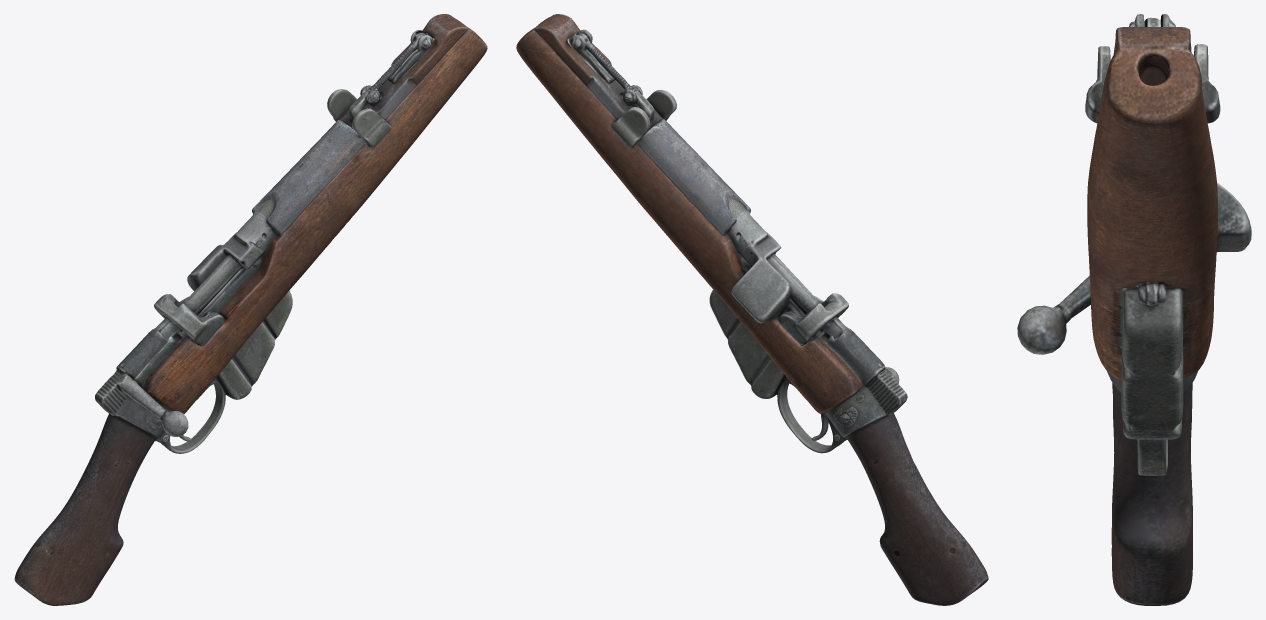
The model's file is smle_tripo_model3_bolt.glb.
3 renders of one model, left to right at view 1: azimuth 30°, elevation 25°; view 2: azimuth 150°, elevation 25°; view 3: azimuth 270°, elevation 25°, orthographic. The views are drawn at different scales.
Visible parts, largest first — view 1: tripo_node_3b372038-565b-4fe2-86f5-da2a679670e3; view 2: tripo_node_3b372038-565b-4fe2-86f5-da2a679670e3; view 3: tripo_node_3b372038-565b-4fe2-86f5-da2a679670e3.
Part boxes in pixels (x1=…): tripo_node_3b372038-565b-4fe2-86f5-da2a679670e3: x1=14, y1=14, x2=487, y2=605; tripo_node_3b372038-565b-4fe2-86f5-da2a679670e3: x1=516, y1=14, x2=988, y2=605; tripo_node_3b372038-565b-4fe2-86f5-da2a679670e3: x1=1017, y1=14, x2=1251, y2=605.
Size of the model in its own units: 0.9797 by 0.9741 by 0.2282.
Materials: 1 (1 with a texture image).
